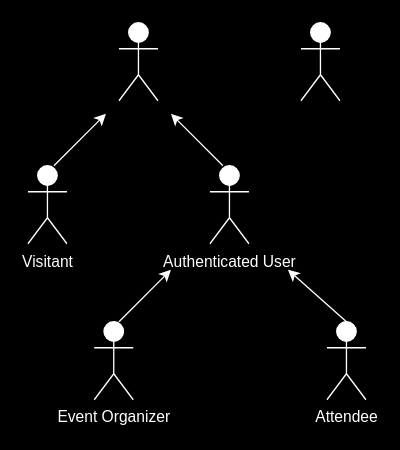
This 400x450 diagram has some shape labels left out. The shapes that lost their labels are listed below. From the top down, each one's centre as x and y in pixels, then its label:
At point (138, 61): "User".
At point (320, 61): "Administrator".
